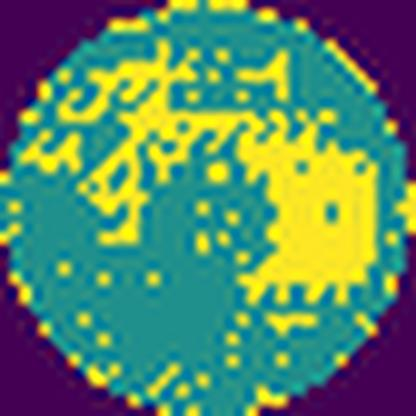Donut: (74, 38, 384, 339)
